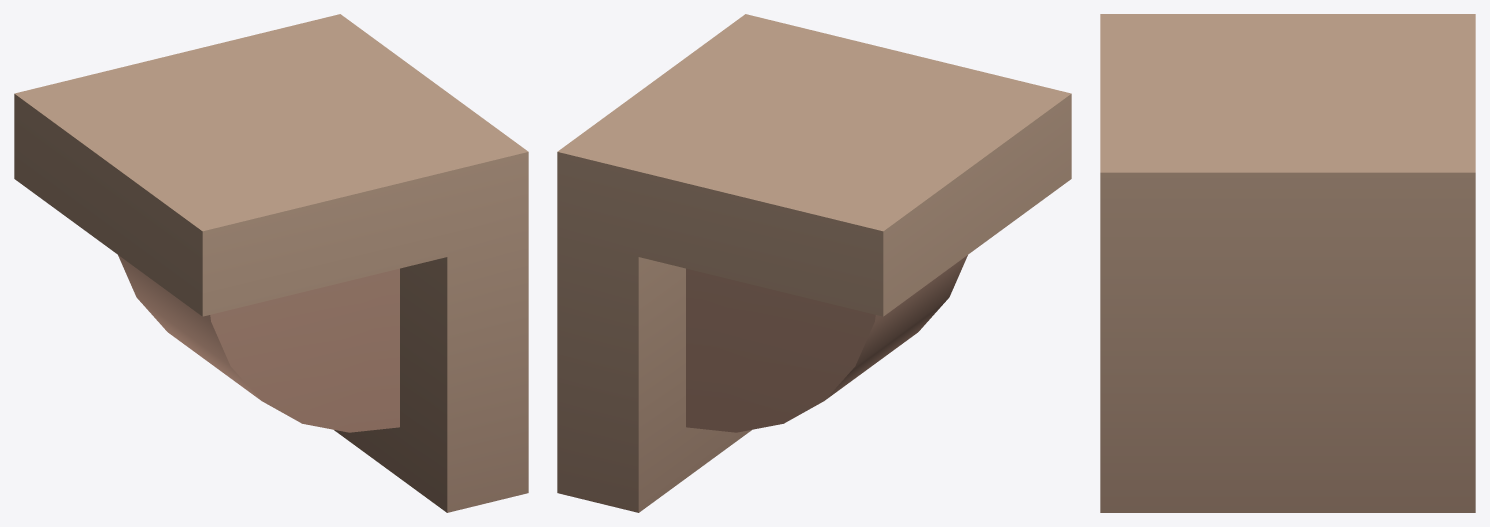
File: corners-corner-detailed-b.glb
The picture shows the model from 3 angles, left to right: view 1: azimuth 30°, elevation 25°; view 2: azimuth 150°, elevation 25°; view 3: azimuth 270°, elevation 25°; orthographic projection.
Parts seen in each view (by area): view 1: corners-corner-detailed-b; view 2: corners-corner-detailed-b; view 3: corners-corner-detailed-b.
Boxes of the visible parts, left/top/right/bottom form: corners-corner-detailed-b: left=14, top=14, right=528, bottom=512; corners-corner-detailed-b: left=557, top=14, right=1071, bottom=512; corners-corner-detailed-b: left=1100, top=14, right=1475, bottom=512.
Size of the model in its own units: 0.2 by 0.2 by 0.2.
